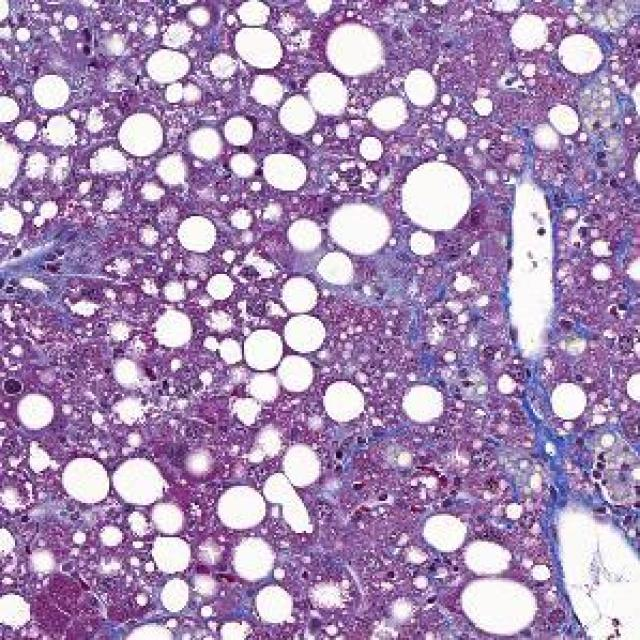fibrosis: (362, 252, 509, 376), (508, 413, 602, 507)
